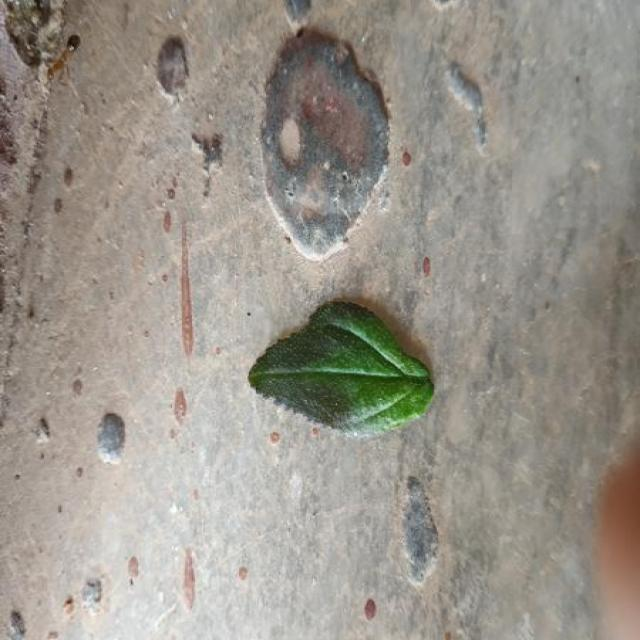Astma_weed: (248, 301, 433, 434)
